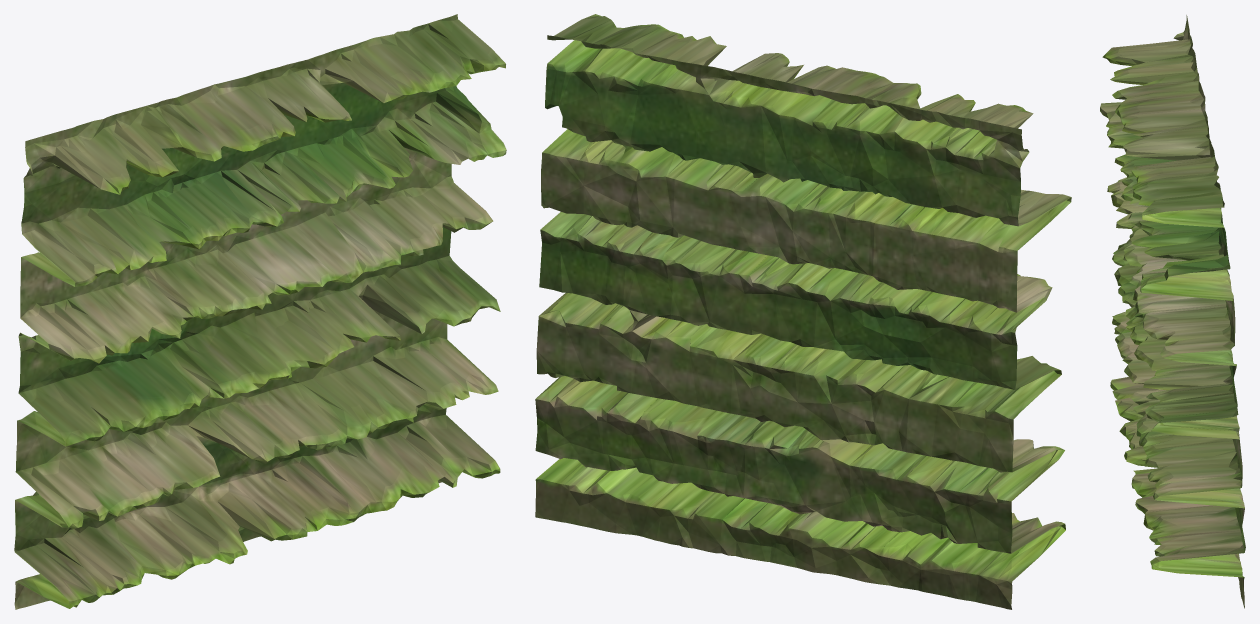
Rendered from map_170_70.obj.
The picture shows the model from 3 angles, left to right: view 1: azimuth 30°, elevation 25°; view 2: azimuth 150°, elevation 25°; view 3: azimuth 270°, elevation 25°; orthographic projection. The views are drawn at different scales.
Visible parts, largest first — view 1: grp1; view 2: grp1; view 3: grp1.
Boxes of the visible parts, bbox=[...] form: grp1: bbox=[14, 14, 506, 609]; grp1: bbox=[535, 14, 1071, 609]; grp1: bbox=[1100, 15, 1245, 608].
Size of the model in its own units: 10 by 10 by 3.25.
Materials: 1 (1 with a texture image).
